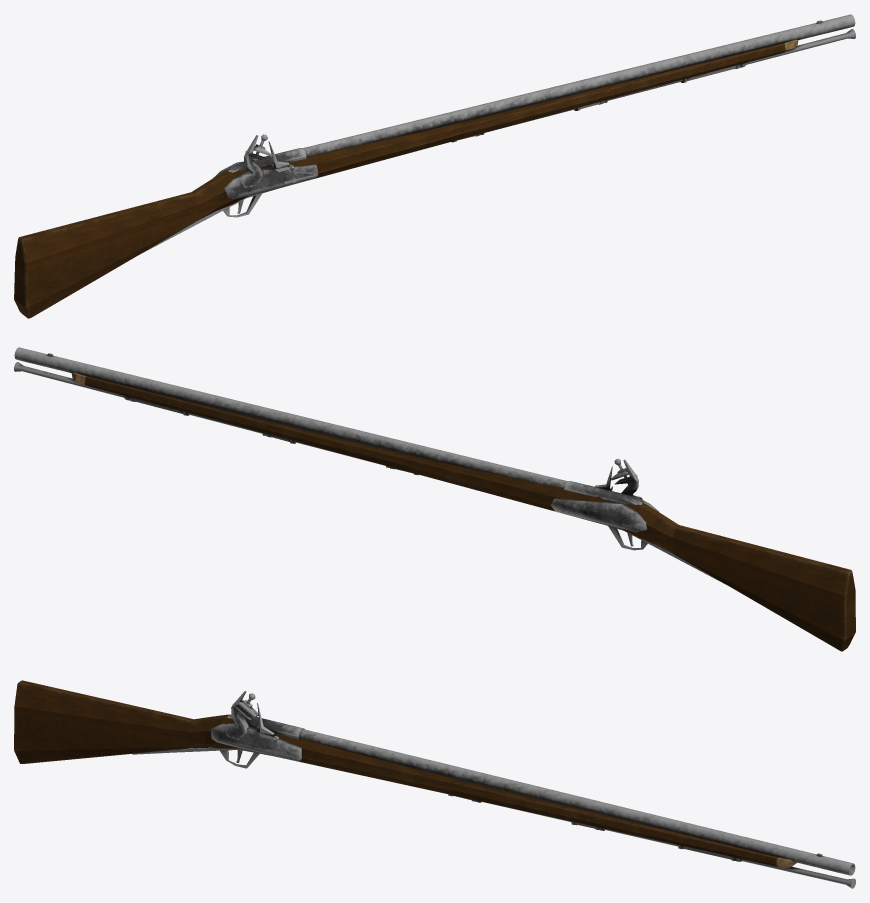
Rendered from export3dcoat.obj.
The picture shows the model from 3 angles, top to bottom: view 1: azimuth 30°, elevation 25°; view 2: azimuth 150°, elevation 25°; view 3: azimuth 330°, elevation 25°; orthographic projection.
Visible parts, largest first — view 1: Stock, Barrel, Metal01, Mechanism01, Ramrod, Metal03; view 2: Stock, Barrel, Metal01, Ramrod, Metal03; view 3: Stock, Barrel, Metal01, Mechanism01, Ramrod, Metal03.
Boxes of the visible parts, left/top/right/bottom form: Stock: left=14, top=39, right=798, bottom=318; Barrel: left=303, top=14, right=855, bottom=156; Metal01: left=213, top=161, right=318, bottom=198; Mechanism01: left=240, top=134, right=272, bottom=187; Ramrod: left=491, top=29, right=855, bottom=131; Metal03: left=228, top=148, right=306, bottom=172; Stock: left=71, top=372, right=855, bottom=651; Barrel: left=14, top=347, right=567, bottom=487; Metal01: left=551, top=494, right=659, bottom=532; Ramrod: left=14, top=362, right=385, bottom=465; Metal03: left=564, top=481, right=642, bottom=504; Stock: left=14, top=680, right=796, bottom=868; Barrel: left=299, top=729, right=855, bottom=875; Metal01: left=210, top=716, right=301, bottom=761; Mechanism01: left=224, top=690, right=258, bottom=740; Ramrod: left=479, top=801, right=855, bottom=888; Metal03: left=227, top=715, right=304, bottom=739.
Size of the model in its own units: 17.63 by 2.64 by 0.6657.
